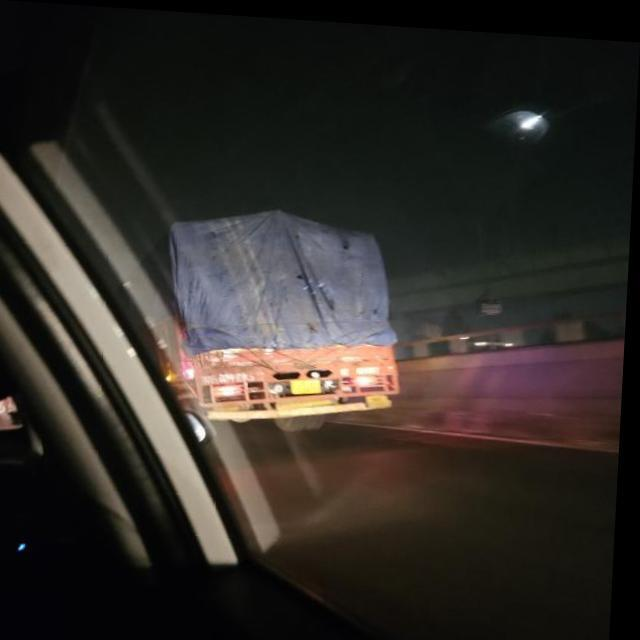covered: (114, 172, 413, 436)
